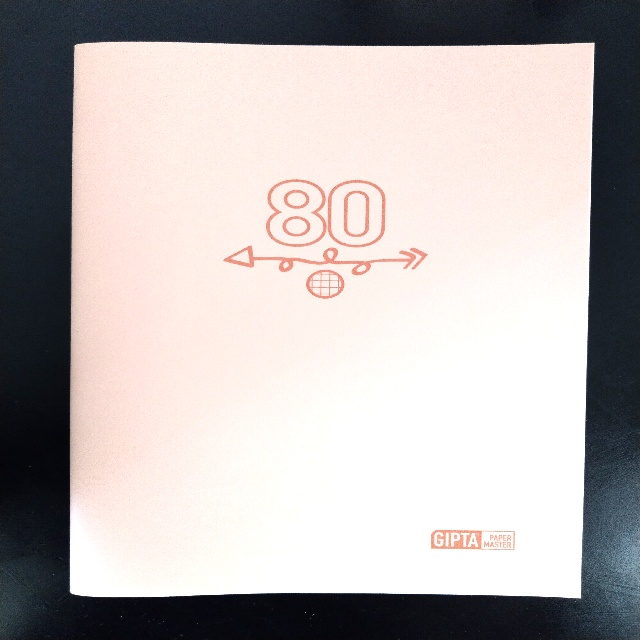60_sayfa_gipta_defter: (72, 43, 599, 587)
